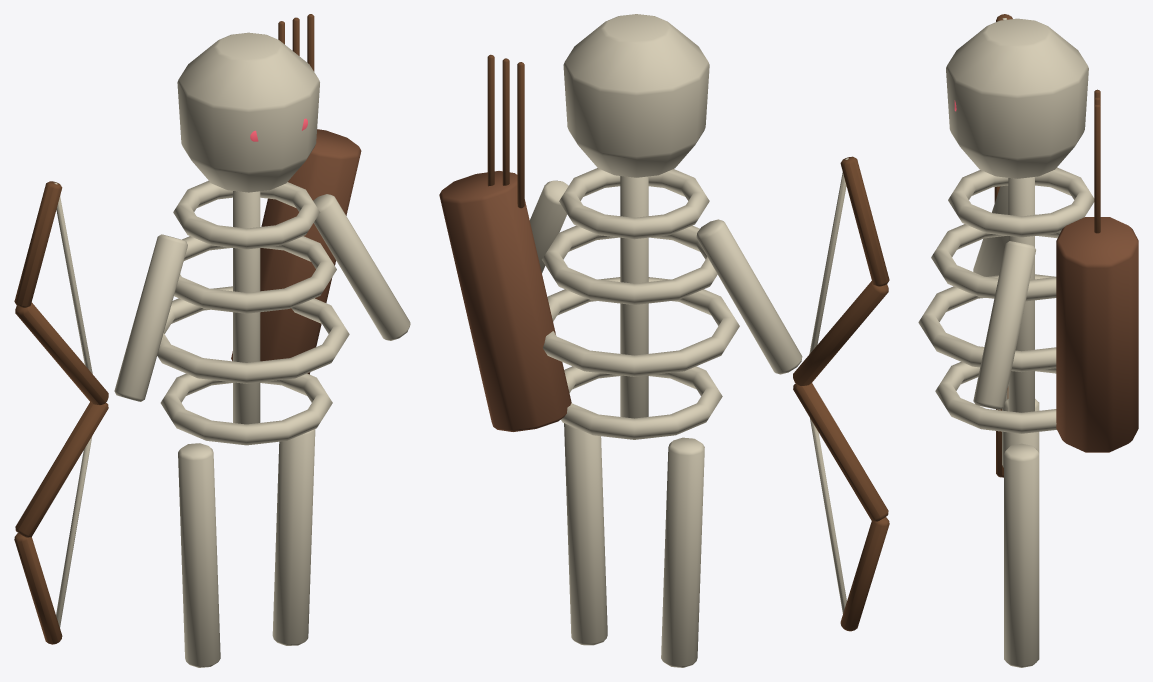
The model's file is enemy_skeletal_archer.glb.
The picture shows the model from 3 angles, left to right: view 1: azimuth 30°, elevation 25°; view 2: azimuth 150°, elevation 25°; view 3: azimuth 270°, elevation 25°; orthographic projection. The views are drawn at different scales.
Visible parts, largest first — view 1: ARCHER__skull, ARCHER__quiver, ARCHER__leg.001, ARCHER__leg, ARCHER__rib.002, ARCHER__rib.001, ARCHER__arm.001, ARCHER__rib.003, ARCHER__arm, ARCHER__rib, ARCHER__spine, ARCHER__bow__limb_lower (+5 smaller); view 2: ARCHER__quiver, ARCHER__skull, ARCHER__leg.001, ARCHER__leg, ARCHER__rib.002, ARCHER__rib.003, ARCHER__arm.001, ARCHER__rib, ARCHER__spine, ARCHER__rib.001, ARCHER__bow__limb_lower, ARCHER__bow (+8 smaller); view 3: ARCHER__quiver, ARCHER__skull, ARCHER__leg, ARCHER__arm, ARCHER__rib, ARCHER__rib.002, ARCHER__rib.001, ARCHER__spine, ARCHER__rib.003, ARCHER__arm.001, ARCHER__arrow, ARCHER__leg.001.
Boxes of the visible parts, box(x1,y1,x2,y2) form: ARCHER__skull: box(177, 32, 319, 192); ARCHER__quiver: box(231, 129, 361, 374); ARCHER__leg.001: box(178, 443, 220, 667); ARCHER__leg: box(272, 429, 315, 645); ARCHER__rib.002: box(157, 286, 349, 383); ARCHER__rib.001: box(160, 373, 332, 445); ARCHER__arm.001: box(114, 234, 187, 401); ARCHER__rib.003: box(174, 236, 336, 313); ARCHER__arm: box(313, 194, 410, 340); ARCHER__rib: box(173, 180, 320, 249); ARCHER__spine: box(233, 191, 260, 424); ARCHER__bow__limb_lower: box(15, 402, 108, 537); ARCHER__quiver: box(439, 171, 571, 431); ARCHER__skull: box(563, 14, 709, 177); ARCHER__leg.001: box(661, 437, 704, 667); ARCHER__leg: box(564, 423, 607, 645); ARCHER__rib.002: box(543, 277, 739, 376); ARCHER__rib.003: box(542, 225, 717, 304); ARCHER__arm.001: box(696, 219, 802, 374); ARCHER__rib: box(559, 168, 709, 239); ARCHER__spine: box(620, 176, 648, 418); ARCHER__rib.001: box(561, 366, 722, 439); ARCHER__bow__limb_lower: box(793, 383, 888, 521); ARCHER__bow: box(793, 281, 888, 385); ARCHER__quiver: box(1056, 217, 1138, 452); ARCHER__skull: box(946, 18, 1088, 178); ARCHER__leg: box(1004, 443, 1039, 667); ARCHER__arm: box(973, 241, 1035, 409); ARCHER__rib: box(948, 167, 1094, 237); ARCHER__rib.002: box(918, 274, 1056, 372); ARCHER__rib.001: box(935, 362, 1056, 433); ARCHER__spine: box(1008, 177, 1034, 412); ARCHER__rib.003: box(931, 214, 1060, 301); ARCHER__arm.001: box(973, 185, 1008, 276); ARCHER__arrow: box(1094, 104, 1100, 233); ARCHER__leg.001: box(1004, 399, 1039, 451).
Size of the model in its own units: 1.06 by 1.59 by 0.5225.
